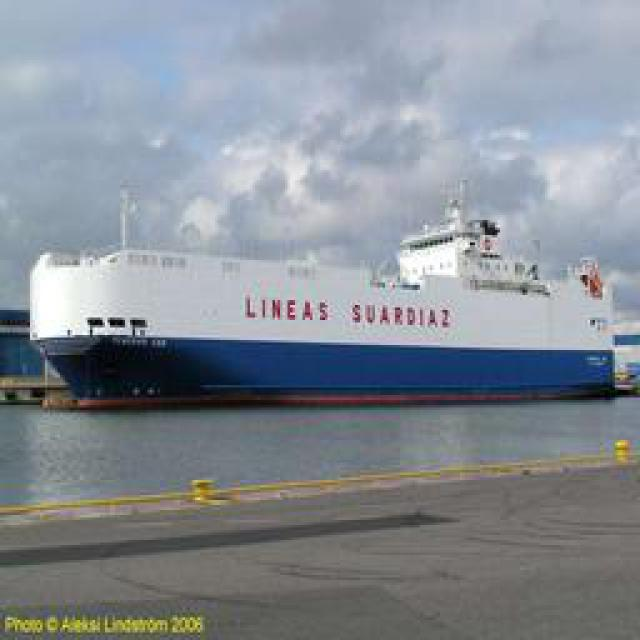Ship: (27, 178, 630, 413)
